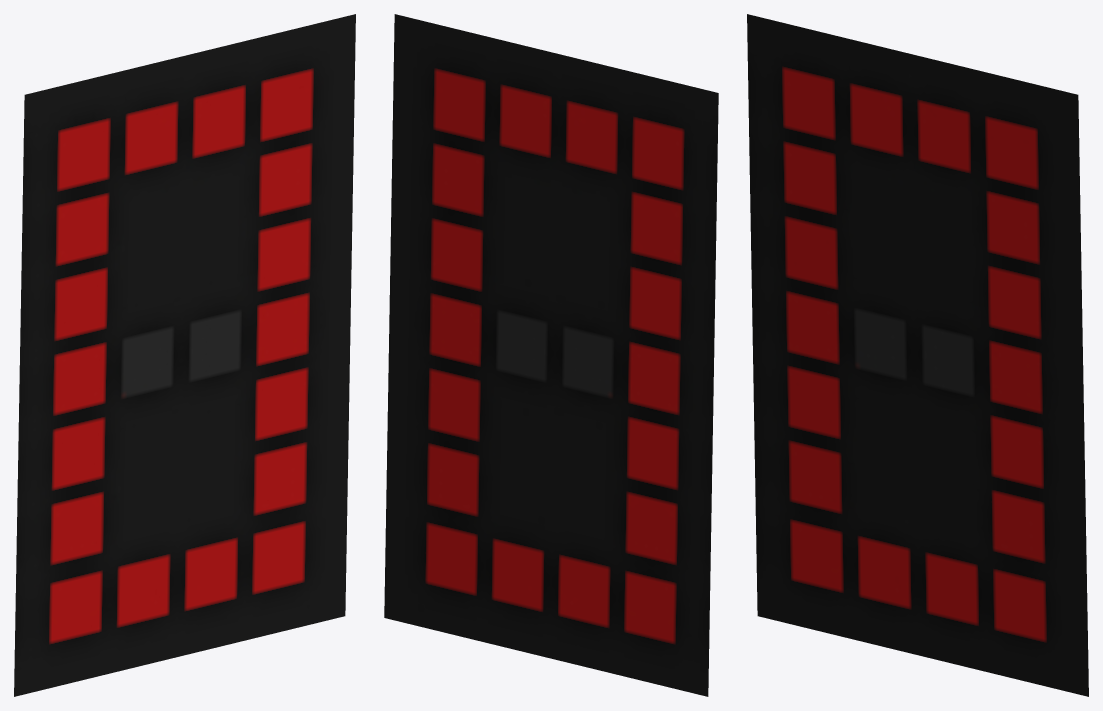
3 renders of one model, left to right at view 1: azimuth 30°, elevation 25°; view 2: azimuth 150°, elevation 25°; view 3: azimuth 330°, elevation 25°, orthographic. The views are drawn at different scales.
Visible parts, largest first — view 1: scorebord.001; view 2: scorebord.001; view 3: scorebord.001.
Boxes of the visible parts, bbox=[...] form: scorebord.001: bbox=[14, 14, 355, 696]; scorebord.001: bbox=[384, 14, 718, 696]; scorebord.001: bbox=[747, 14, 1088, 696].
Size of the model in its own units: 0.00402 by 0.00706 by 0.000222.
Materials: 1 (1 with a texture image).
